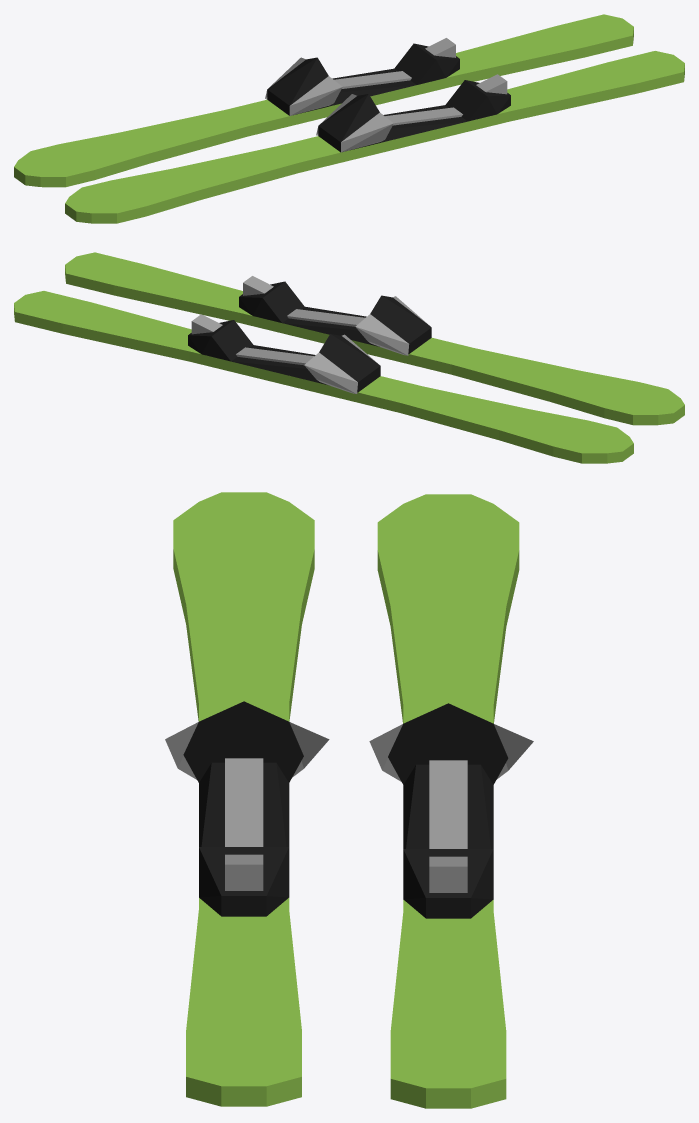
File: Skis.glb
3 views of the same model, one above another, from view 1: azimuth 30°, elevation 25°; view 2: azimuth 150°, elevation 25°; view 3: azimuth 270°, elevation 25° (orthographic). The views are drawn at different scales.
Visible parts, largest first — view 1: group794062741, group2062310566, group294430464, group574496613, group975499924, group1106931664, group29543461, group2105657686, group618412237, group929352866, group746830444, group509237502; view 2: group2062310566, group794062741, group574496613, group294430464, group975499924, group1106931664, group807753933, group1173725591, group929352866, group618412237, group509237502, group746830444; view 3: group2062310566, group794062741, group574496613, group294430464, group975499924, group1106931664, group618412237, group929352866, group509237502, group746830444.
Part boxes in pixels (bbox=[...]): group794062741: bbox=[65, 51, 684, 223]; group2062310566: bbox=[14, 14, 633, 187]; group294430464: bbox=[380, 80, 510, 142]; group574496613: bbox=[329, 43, 459, 106]; group975499924: bbox=[267, 57, 328, 115]; group1106931664: bbox=[318, 94, 380, 152]; group29543461: bbox=[289, 76, 342, 115]; group2105657686: bbox=[341, 112, 393, 152]; group618412237: bbox=[334, 71, 411, 88]; group929352866: bbox=[385, 107, 462, 125]; group746830444: bbox=[476, 74, 507, 94]; group509237502: bbox=[425, 38, 455, 57]; group2062310566: bbox=[14, 291, 633, 463]; group794062741: bbox=[65, 252, 684, 425]; group574496613: bbox=[188, 320, 318, 382]; group294430464: bbox=[239, 281, 369, 344]; group975499924: bbox=[318, 334, 380, 392]; group1106931664: bbox=[369, 295, 431, 353]; group807753933: bbox=[355, 314, 409, 355]; group1173725591: bbox=[304, 352, 357, 393]; group929352866: bbox=[287, 309, 365, 326]; group618412237: bbox=[236, 347, 313, 365]; group509237502: bbox=[191, 314, 222, 334]; group746830444: bbox=[243, 276, 273, 295]; group2062310566: bbox=[377, 494, 519, 1108]; group794062741: bbox=[173, 492, 314, 1106]; group574496613: bbox=[403, 764, 493, 918]; group294430464: bbox=[199, 762, 289, 916]; group975499924: bbox=[388, 703, 508, 784]; group1106931664: bbox=[183, 701, 303, 782]; group618412237: bbox=[429, 760, 467, 848]; group929352866: bbox=[225, 758, 263, 846]; group509237502: bbox=[429, 856, 467, 892]; group746830444: bbox=[225, 854, 263, 890].
Size of the model in its own units: 1.1 by 0.0906 by 0.2889.
